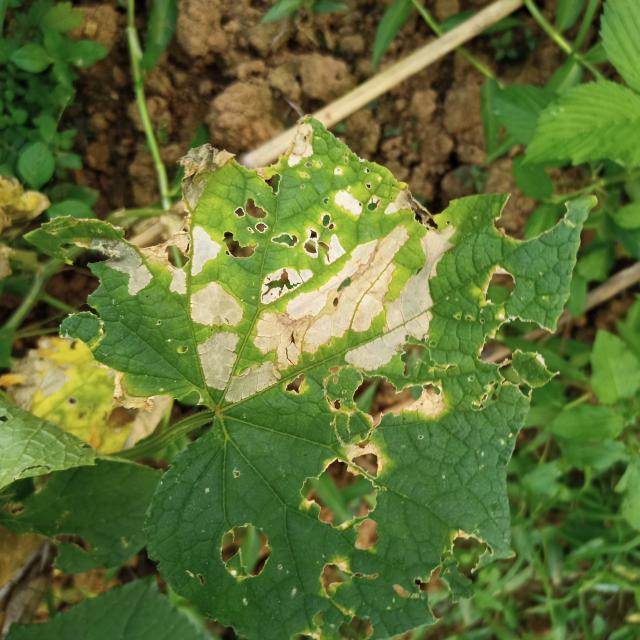disease_cucumber: (115, 152, 458, 395), (312, 195, 516, 592)
